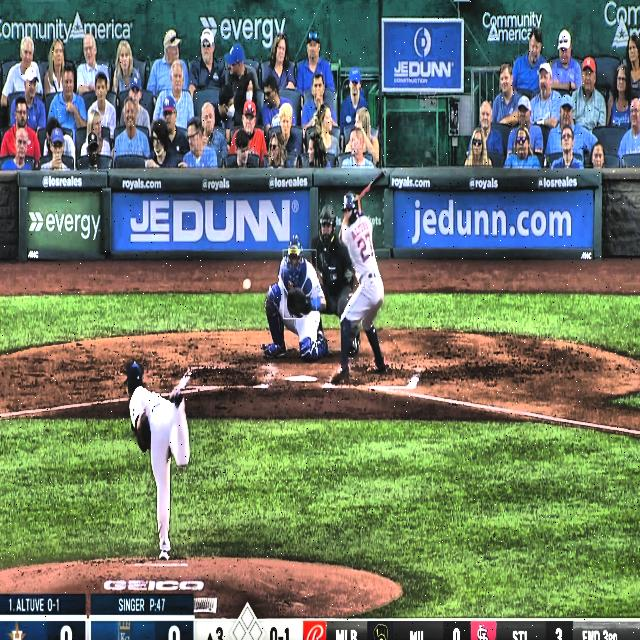baseball: (242, 278, 251, 291)
